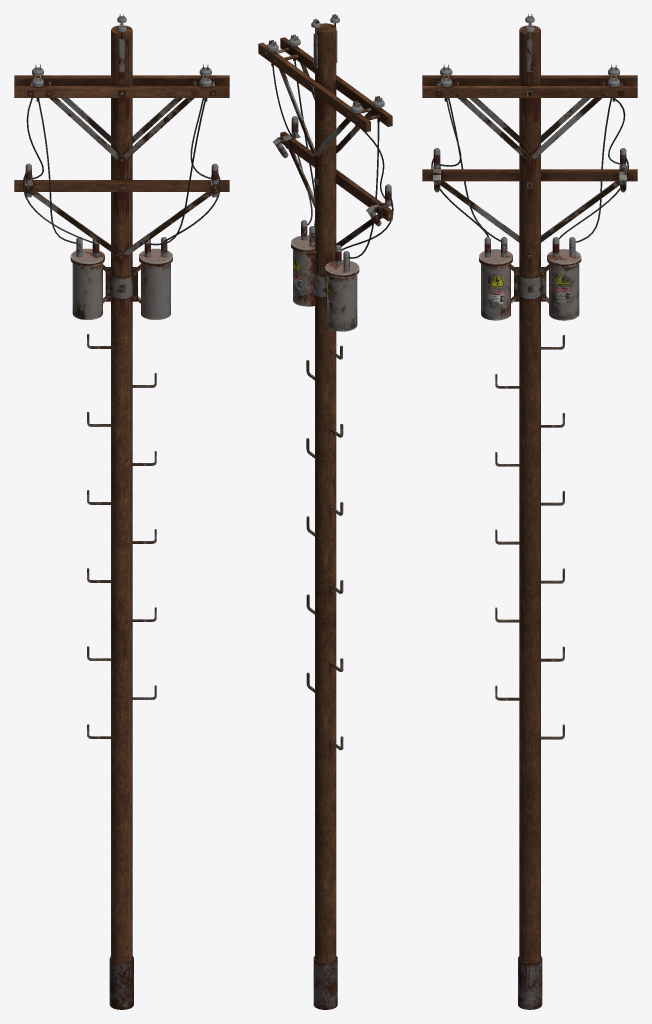
File: dianxiangan.fbx
3 renders of one model, left to right at view 1: azimuth 90°, elevation 25°; view 2: azimuth 210°, elevation 25°; view 3: azimuth 270°, elevation 25°, orthographic.
Visible parts, largest first — view 1: Plane.003_Plane.004, Plane.004_Plane.010; view 2: Plane.003_Plane.004, Plane.004_Plane.010; view 3: Plane.003_Plane.004, Plane.004_Plane.010.
Boxes of the visible parts, left/top/right/bottom form: Plane.003_Plane.004: left=14, top=14, right=229, bottom=1009; Plane.004_Plane.010: left=70, top=248, right=172, bottom=319; Plane.003_Plane.004: left=258, top=14, right=393, bottom=1009; Plane.004_Plane.010: left=291, top=235, right=359, bottom=331; Plane.003_Plane.004: left=422, top=14, right=637, bottom=1009; Plane.004_Plane.010: left=479, top=249, right=581, bottom=320.
Size of the model in its own units: 7.51 by 200 by 39.58.
1 material, 1 textured.
